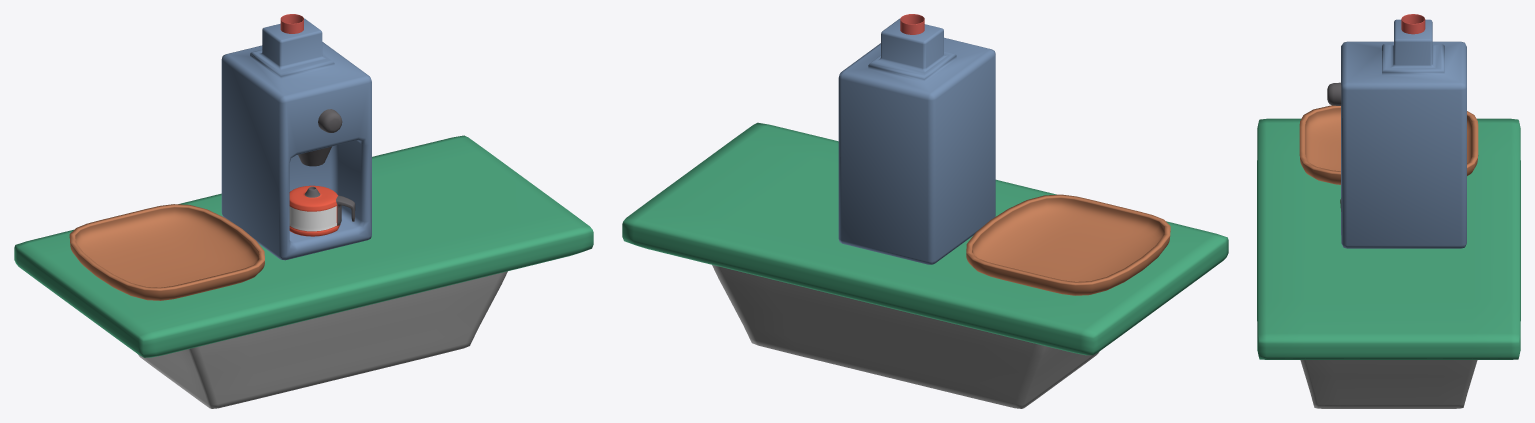
Rendered from CoffeeTable.fbx.
The picture shows the model from 3 angles, left to right: view 1: azimuth 30°, elevation 25°; view 2: azimuth 150°, elevation 25°; view 3: azimuth 270°, elevation 25°; orthographic projection. The views are drawn at different scales.
Parts seen in each view (by area): view 1: CoffeeTable, Plate; view 2: CoffeeTable, Plate; view 3: CoffeeTable, Plate.
Boxes of the visible parts, <box> form: CoffeeTable: <box>14,14,593,408</box>; Plate: <box>69,204,264,300</box>; CoffeeTable: <box>622,14,1228,408</box>; Plate: <box>966,194,1170,295</box>; CoffeeTable: <box>1257,14,1520,408</box>; Plate: <box>1299,105,1478,184</box>.
Size of the model in its own units: 2.8 by 1.93 by 1.4.
